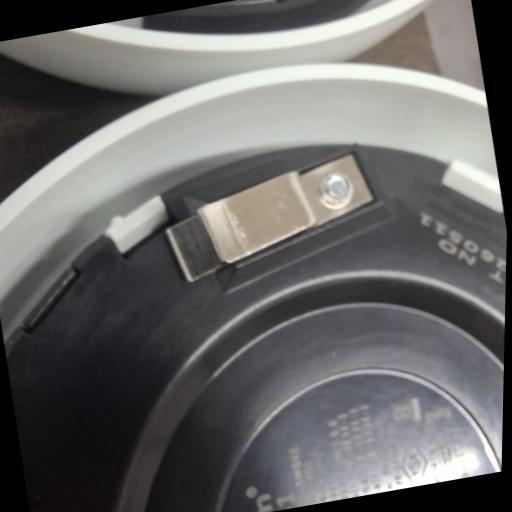yayli: (155, 147, 386, 286)
